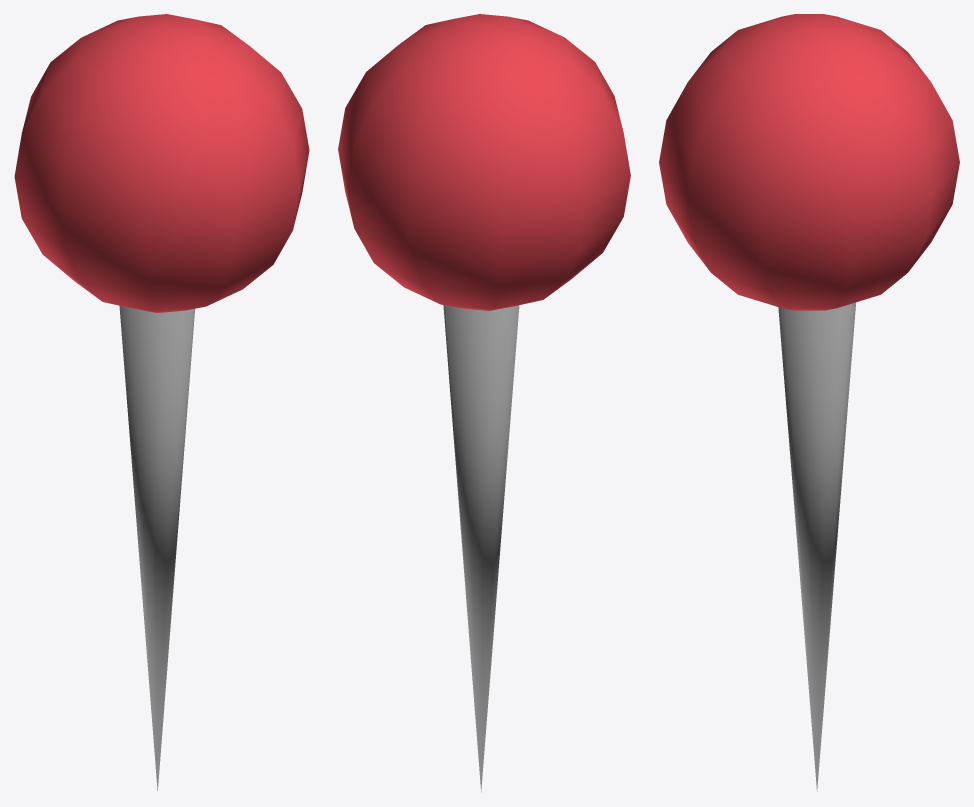
The model's file is Pin.fbx.
The picture shows the model from 3 angles, left to right: view 1: azimuth 30°, elevation 25°; view 2: azimuth 150°, elevation 25°; view 3: azimuth 270°, elevation 25°; orthographic projection.
Visible parts, largest first — view 1: Cone; view 2: Cone; view 3: Cone.
Part boxes in pixels (x1=…): Cone: x1=14, y1=14, x2=309, y2=790; Cone: x1=338, y1=14, x2=630, y2=792; Cone: x1=659, y1=14, x2=959, y2=791.
Size of the model in its own units: 2.18 by 6.43 by 2.29.
